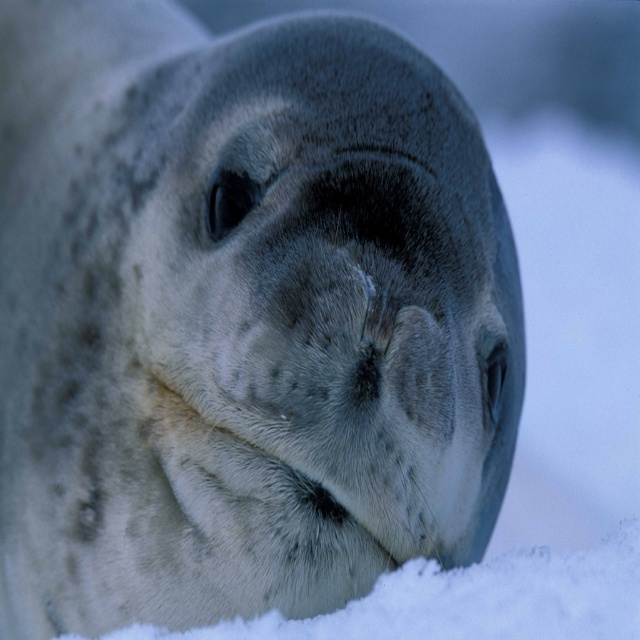Harbor seal: (4, 0, 549, 614)
